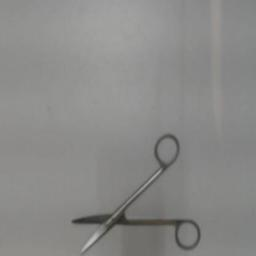Curved Mayo Scissors: (68, 130, 204, 254)
